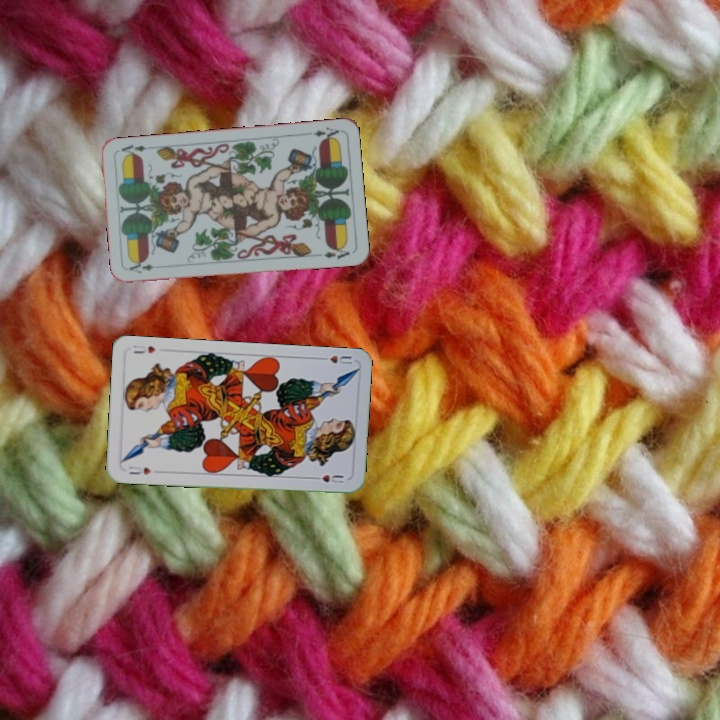EA: (302, 123, 342, 143), (125, 260, 165, 276)
HU: (315, 351, 355, 367), (125, 462, 154, 477)
